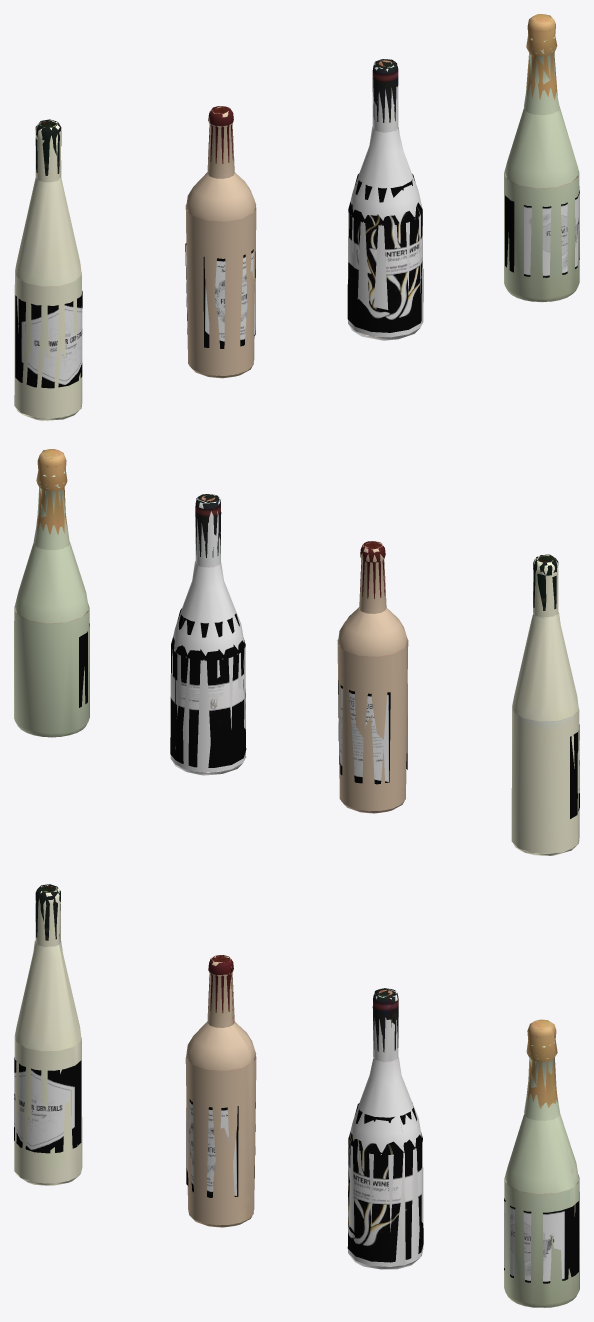
Rendered from bottles.glb.
3 renders of one model, top to bottom at view 1: azimuth 30°, elevation 25°; view 2: azimuth 150°, elevation 25°; view 3: azimuth 330°, elevation 25°, orthographic.
Visible parts, largest first — view 1: bottles; view 2: bottles; view 3: bottles.
Boxes of the visible parts, x1,y1,x2,y2 form: bottles: (14,14,579,420); bottles: (14,449,579,855); bottles: (14,884,579,1307).
Size of the model in its own units: 0.6764 by 0.332 by 0.0803.
9 materials, 6 textured.
